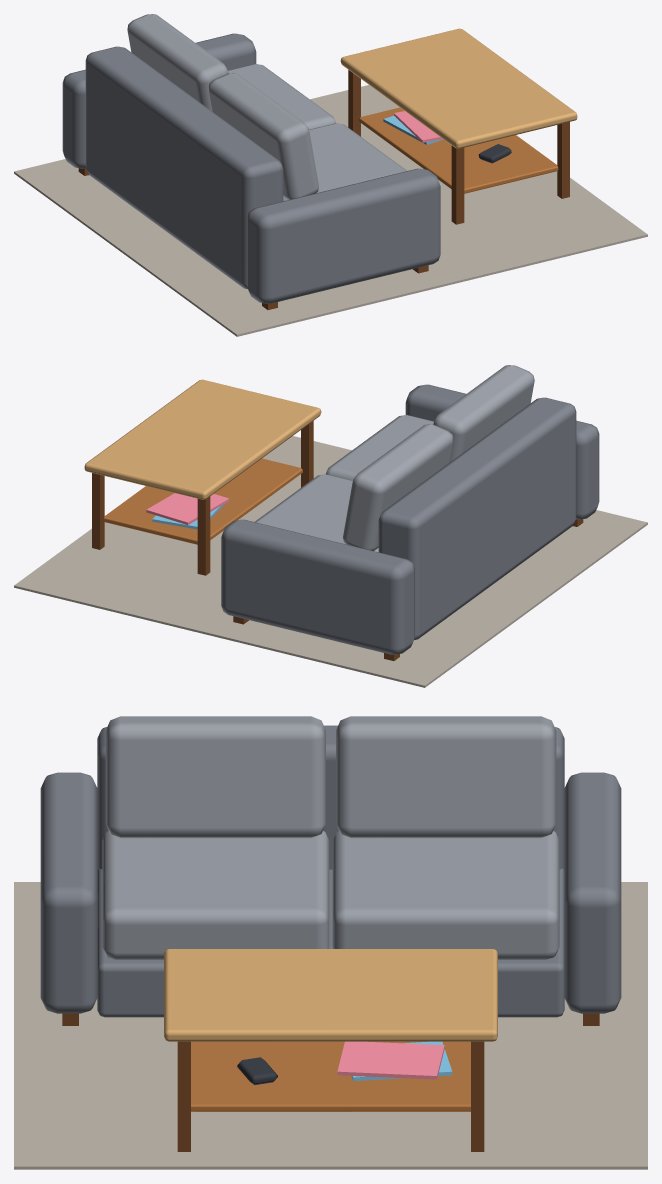
The model's file is station_special_basis.glb.
3 views of the same model, one above another, from view 1: azimuth 30°, elevation 25°; view 2: azimuth 150°, elevation 25°; view 3: azimuth 270°, elevation 25° (orthographic). The views are drawn at different scales.
Parts seen in each view (by area): view 1: station_special_basis; view 2: station_special_basis; view 3: station_special_basis.
Part boxes in pixels (x1,y1,x2,y2): station_special_basis: (14,14,647,336); station_special_basis: (14,365,647,687); station_special_basis: (14,716,647,1169).
Size of the model in its own units: 2.02 by 0.7633 by 1.9.
